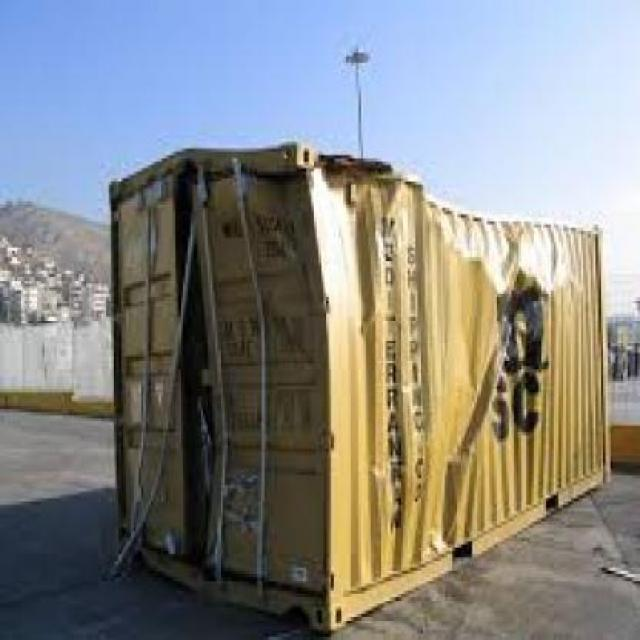dent: (192, 172, 330, 598), (411, 179, 568, 283), (422, 333, 564, 437), (308, 148, 396, 197), (431, 461, 474, 552)
